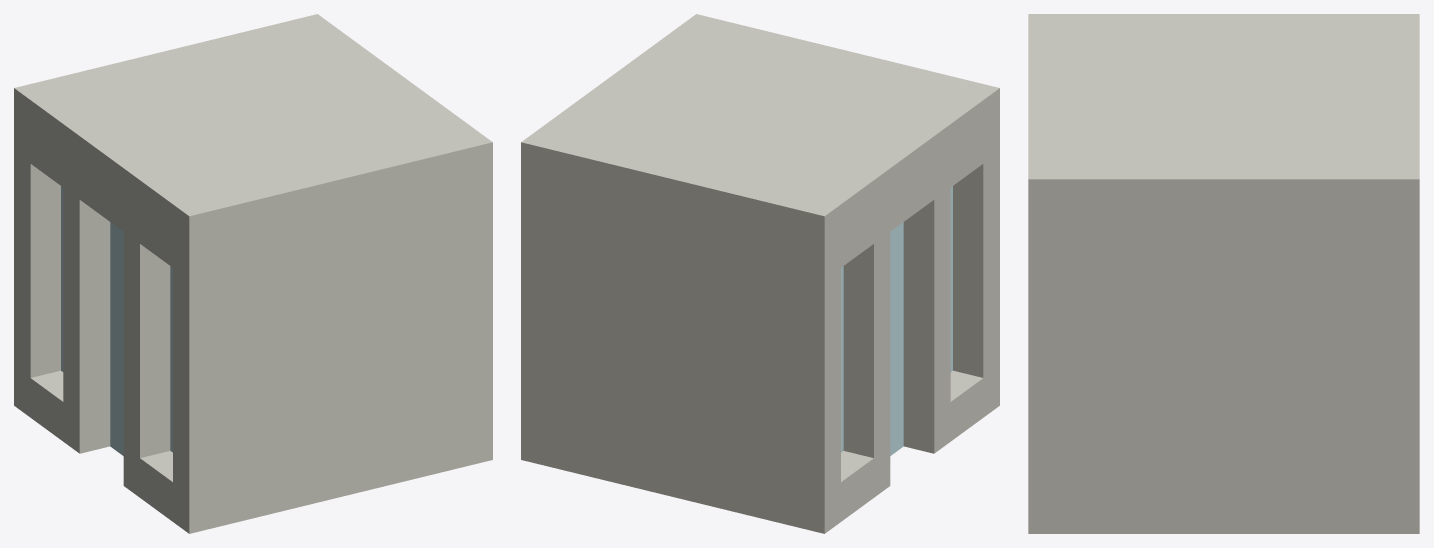
Rendered from Building Story 27.fbx.
3 views of the same model, side by side, from view 1: azimuth 30°, elevation 25°; view 2: azimuth 150°, elevation 25°; view 3: azimuth 270°, elevation 25° (orthographic). The views are drawn at different scales.
Parts seen in each view (by area): view 1: Building Story 27; view 2: Building Story 27; view 3: Building Story 27.
Part boxes in pixels (x1=…): Building Story 27: x1=14, y1=14, x2=492, y2=533; Building Story 27: x1=521, y1=14, x2=999, y2=533; Building Story 27: x1=1028, y1=14, x2=1419, y2=533.
Bounding box in the file's own units: 1 × 1 × 1.
